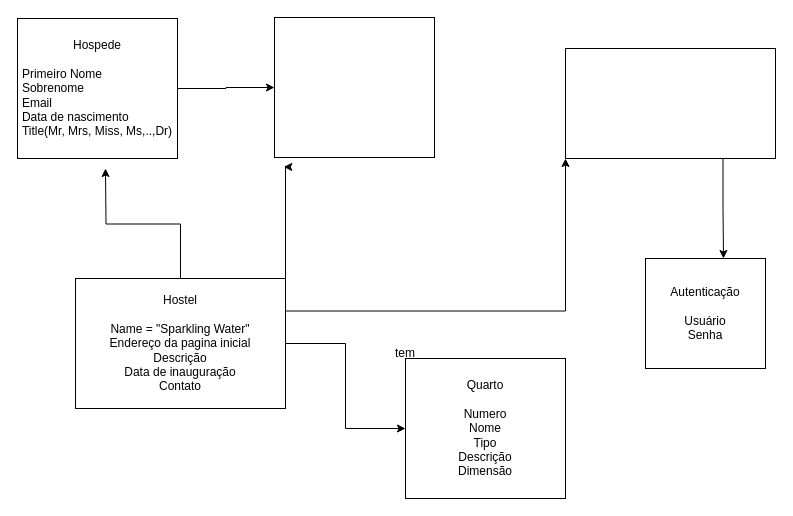
This 793x516 diagram has some shape labels left out. The shapes that lost their labels are listed below. From the top down, each one's centre as x and y in pixels, then its label:
[354,87]: Endereço Cidade Estado Cep Pais
[670,103]: Empregados Recepcionista Administrador
